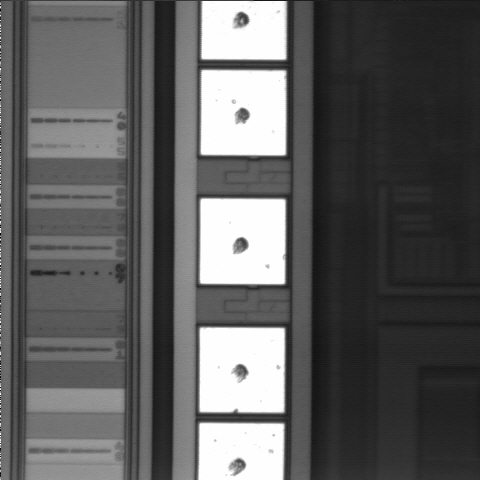pad: (201, 70, 286, 155), (200, 199, 285, 284), (200, 328, 285, 412)
